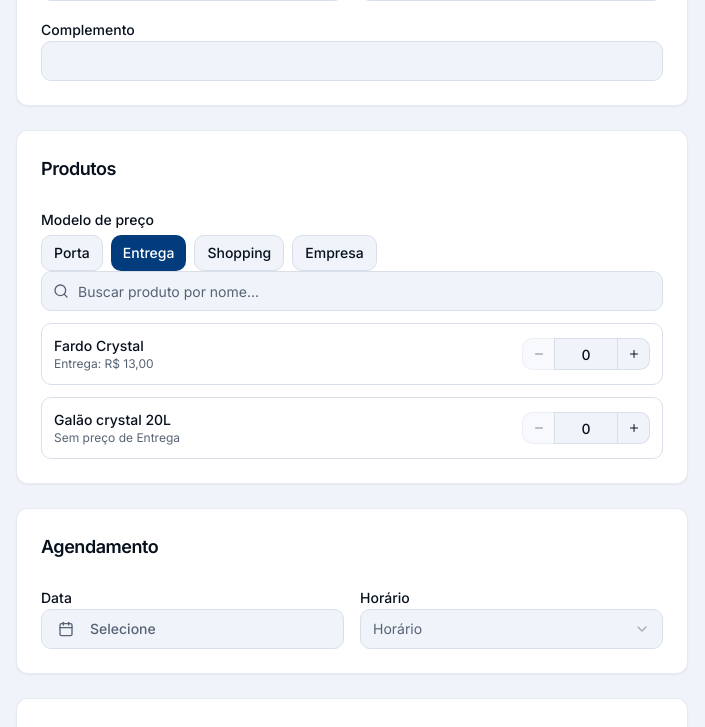
it: Novo pedido: preço por item › usa o preço do cadastro, avisa item sem preço e soma tudo
(page scrolled)
Click the button named "Aumentar" in the row of "Entrega: R$ 13,00".
click(634, 354)  # box [618,338,650,370]
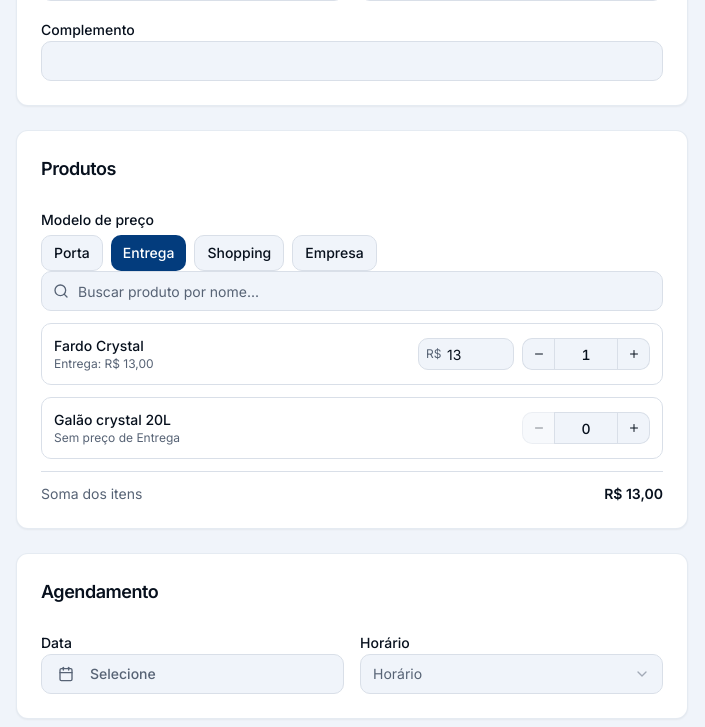
Click the button named "Aumentar" in the row of "Entrega: R$ 13,00".
click(634, 354)  # box [618,338,650,370]
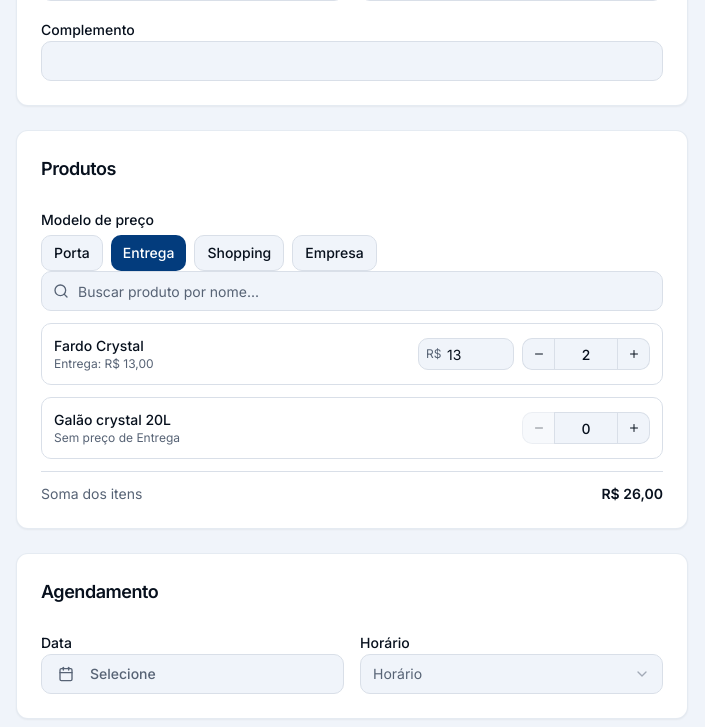
Expected: the field named "Preço unitário de Fardo Crystal" holds "13", [418,338,514,370]
Expected: the text "R$ 26,00" is shown, [601,484,663,504]
Click the button named "Aumentar" in the row of "Sem preço de Entrega".
click(634, 428)  # box [618,412,650,444]
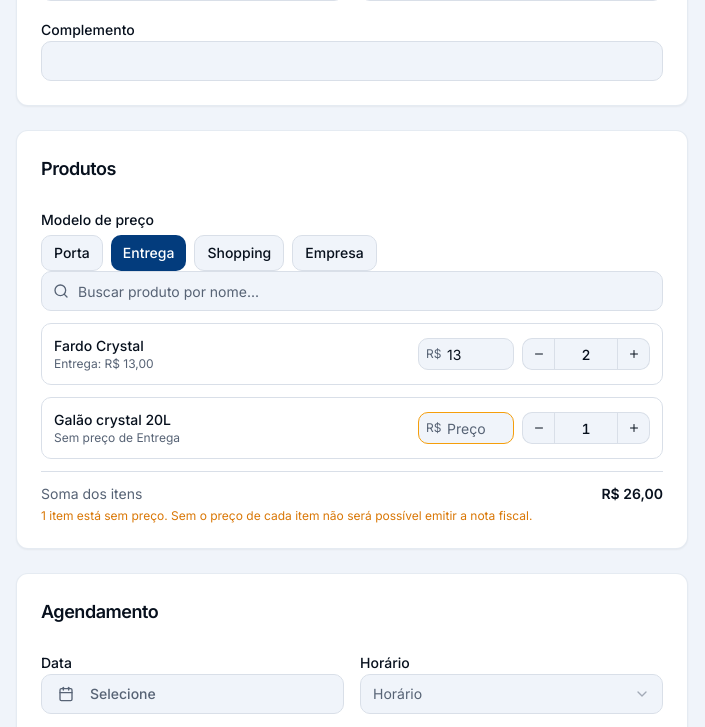
Expected: the text "1 item está sem preço" is shown, [41,508,168,523]
Type "15,50" into the field named "Preço unitário de Galão crystal 20L".
click(466, 428); type("15,50")  # box [418,412,514,444]
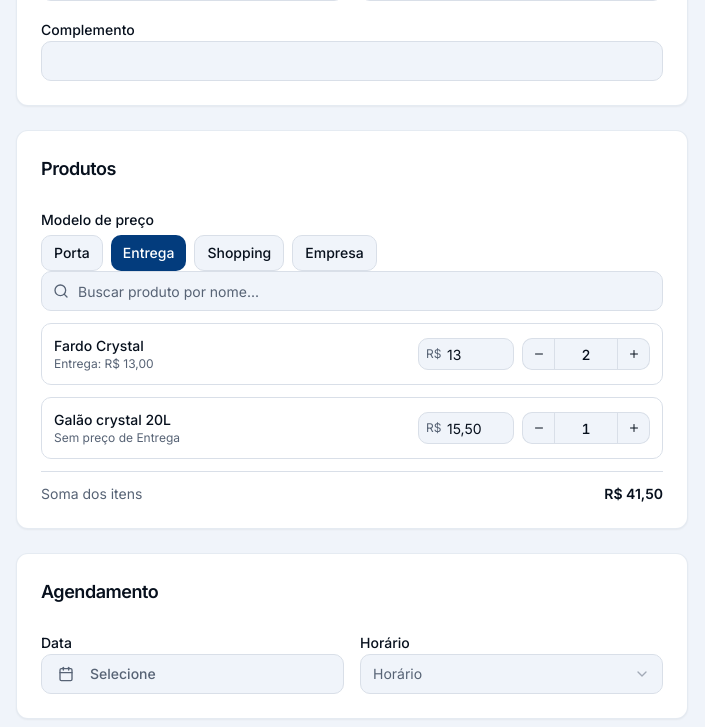
Expected: the text "R$ 41,50" is shown, [604,484,663,504]
